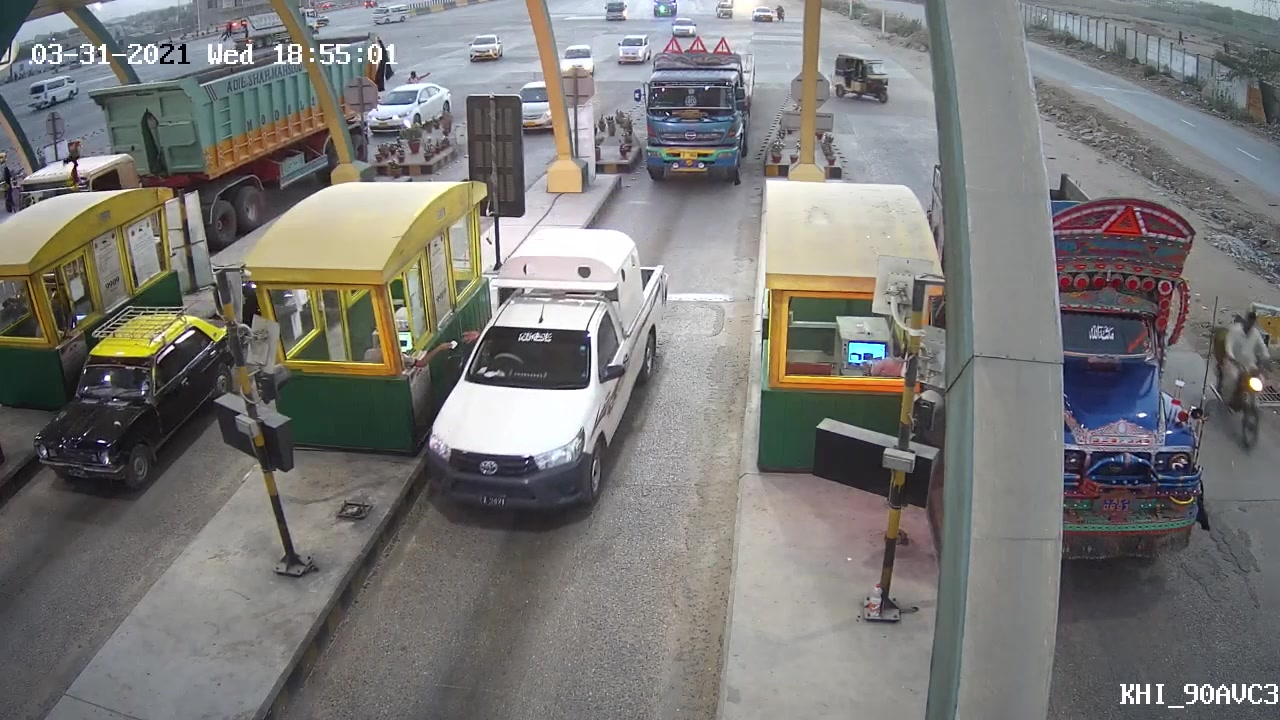F1: (419, 230, 674, 522)
